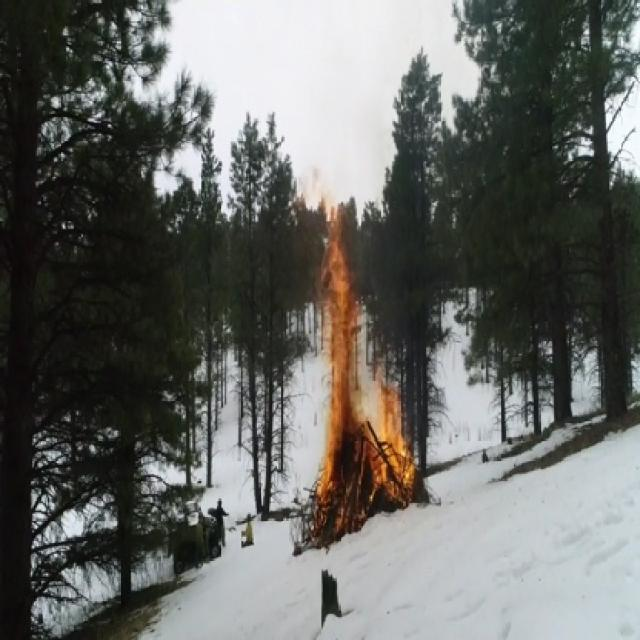Fire: (295, 172, 417, 546)
